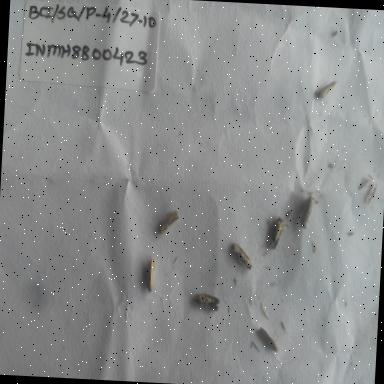pbw: (228, 238, 257, 274), (264, 213, 288, 256), (255, 320, 280, 358), (190, 288, 221, 318), (310, 74, 340, 104), (154, 208, 180, 240), (140, 256, 160, 295), (296, 192, 316, 230)
